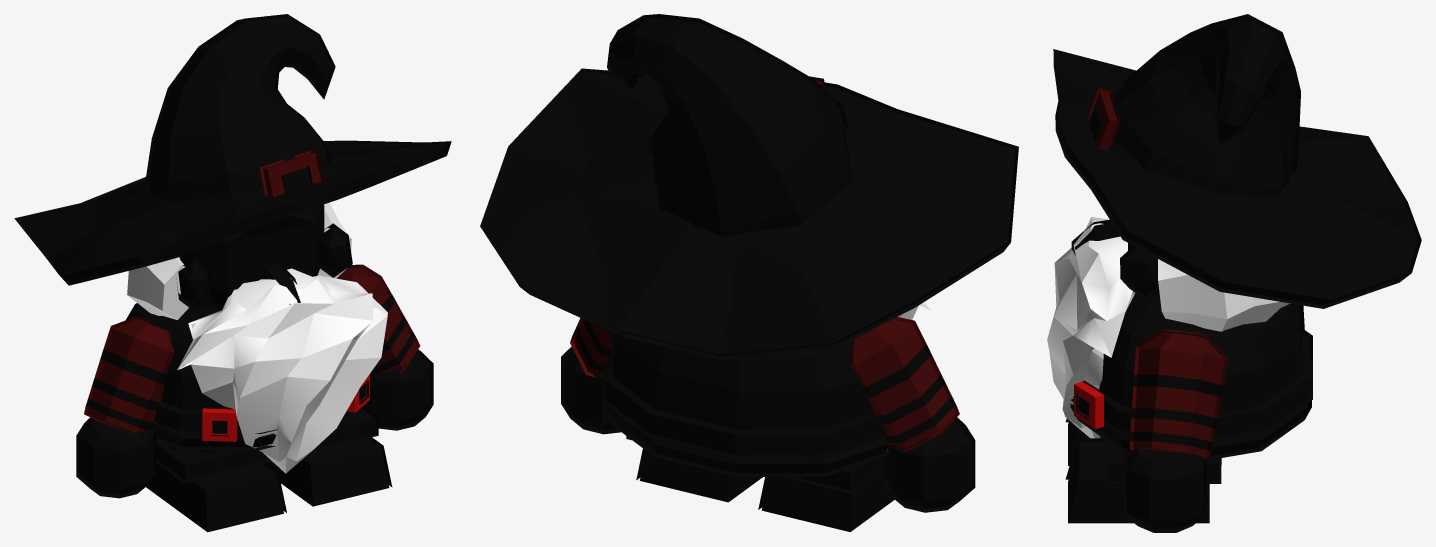
The model's file is SM_Hero_Gnome.fbx.
The picture shows the model from 3 angles, left to right: view 1: azimuth 30°, elevation 25°; view 2: azimuth 150°, elevation 25°; view 3: azimuth 270°, elevation 25°; orthographic projection. The views are drawn at different scales.
Visible parts, largest first — view 1: SM_Gnome_Hat, SM_Gnome_Body, SM_Gnome_Beard, SM_Gnome_Arm_R, SM_Gnome_Arm_L, SM_Gnome_Hair; view 2: SM_Gnome_Hat, SM_Gnome_Body, SM_Gnome_Arm_R, SM_Gnome_Arm_L; view 3: SM_Gnome_Hat, SM_Gnome_Body, SM_Gnome_Arm_L, SM_Gnome_Beard, SM_Gnome_Hair.
Part boxes in pixels (x1,y1,x2,y2): SM_Gnome_Hat: [14, 14, 451, 285]; SM_Gnome_Body: [126, 204, 392, 532]; SM_Gnome_Beard: [177, 268, 387, 473]; SM_Gnome_Arm_R: [76, 316, 174, 498]; SM_Gnome_Arm_L: [337, 264, 433, 430]; SM_Gnome_Hair: [127, 202, 351, 319]; SM_Gnome_Hat: [480, 14, 1018, 360]; SM_Gnome_Body: [602, 333, 894, 532]; SM_Gnome_Arm_R: [850, 317, 975, 512]; SM_Gnome_Arm_L: [561, 318, 620, 434]; SM_Gnome_Hat: [1053, 14, 1421, 308]; SM_Gnome_Body: [1065, 219, 1312, 523]; SM_Gnome_Arm_L: [1123, 329, 1228, 532]; SM_Gnome_Beard: [1047, 217, 1134, 438]; SM_Gnome_Hair: [1158, 259, 1290, 331].
Size of the model in its own units: 1.67 by 1.69 by 1.22.
